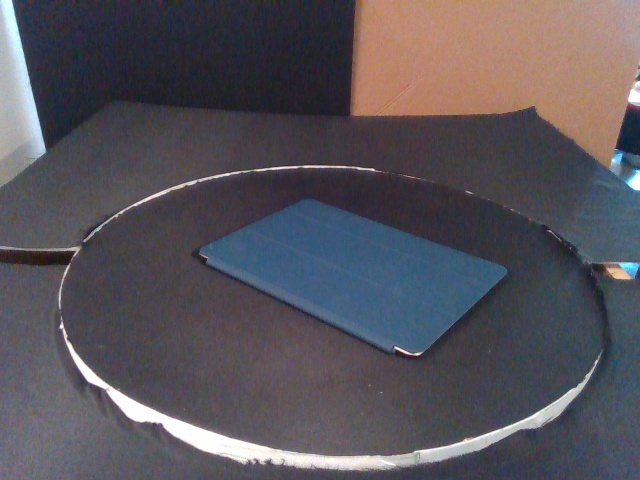laptop: (192, 196, 509, 360)
